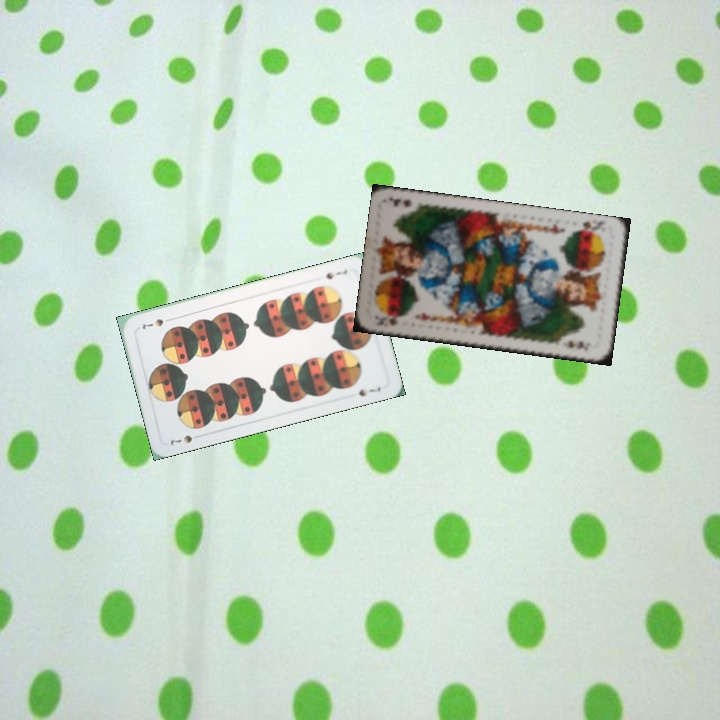S7: (166, 430, 205, 447), (322, 265, 350, 282)
SK: (571, 217, 606, 235), (377, 312, 406, 330)
